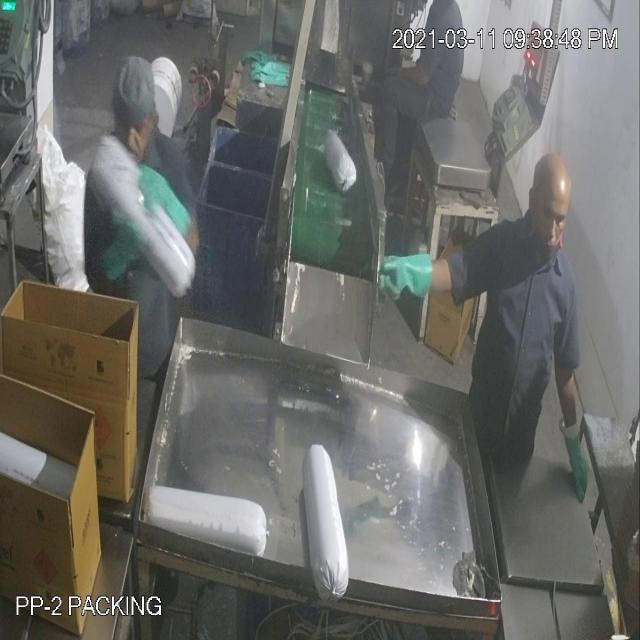Gloves: (40, 80, 578, 468)
